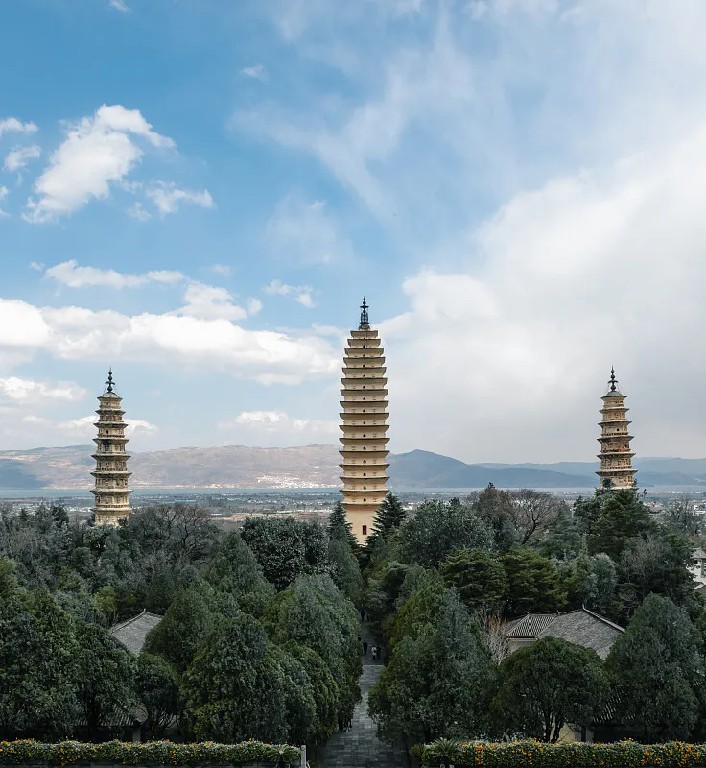ThreePagoda: (339, 297, 391, 546)
